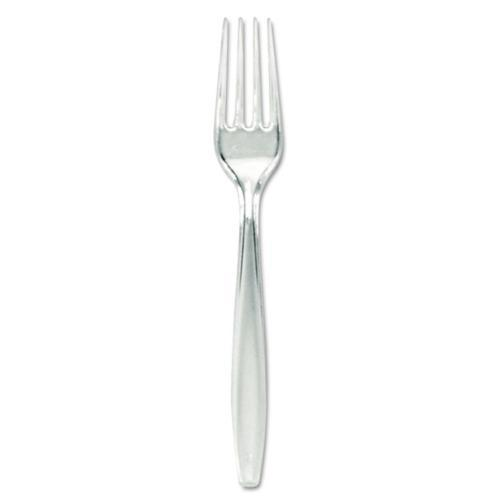Fork: (213, 16, 286, 492)
